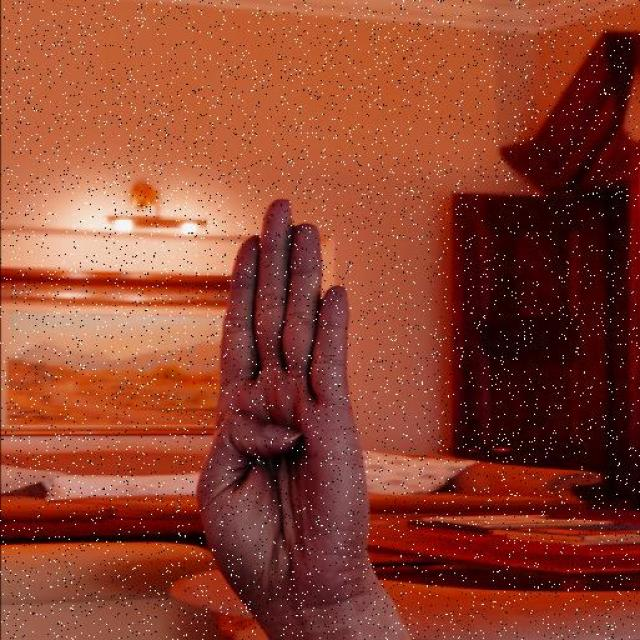B: (189, 194, 376, 624)
